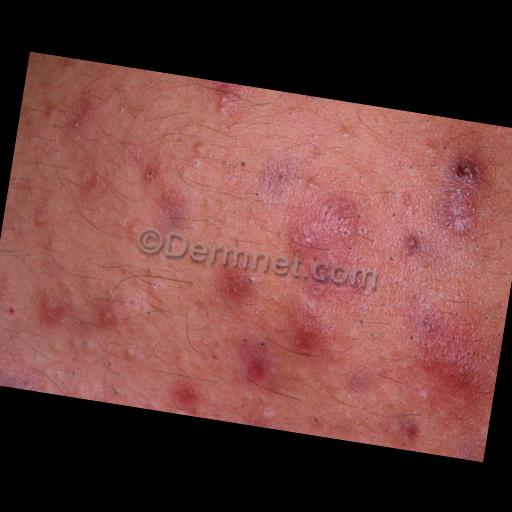Skin_Lesion: (274, 182, 391, 310), (400, 296, 504, 414), (418, 138, 502, 244), (120, 146, 208, 244), (232, 327, 296, 402), (40, 283, 120, 337), (164, 372, 214, 415), (72, 158, 114, 203), (386, 410, 430, 450), (61, 96, 98, 140), (216, 265, 258, 302), (215, 82, 243, 118), (404, 232, 425, 263)
